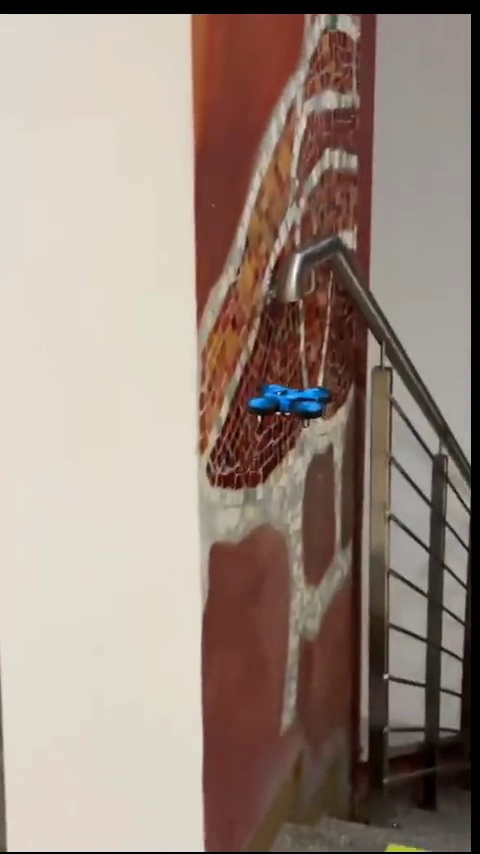drone: (245, 378, 327, 429)
